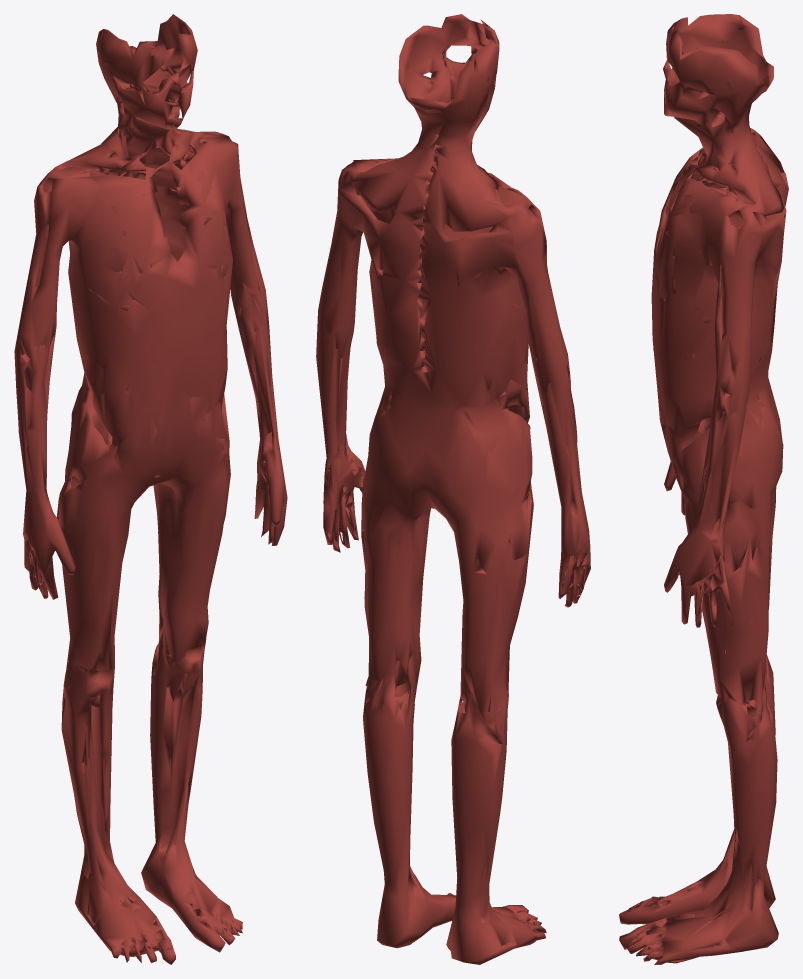
The model's file is pediatric_adolescent_female.muscular.LOD3.glb.
The picture shows the model from 3 angles, left to right: view 1: azimuth 30°, elevation 25°; view 2: azimuth 150°, elevation 25°; view 3: azimuth 270°, elevation 25°; orthographic projection.
Parts seen in each view (by area): view 1: PEDIATRIC.ADOLESCENT.FEMALE.MUSCULAR.MUSCLE; view 2: PEDIATRIC.ADOLESCENT.FEMALE.MUSCULAR.MUSCLE; view 3: PEDIATRIC.ADOLESCENT.FEMALE.MUSCULAR.MUSCLE.
Part boxes in pixels (x1,y1,x2,y2): PEDIATRIC.ADOLESCENT.FEMALE.MUSCULAR.MUSCLE: (14, 14, 287, 964); PEDIATRIC.ADOLESCENT.FEMALE.MUSCULAR.MUSCLE: (316, 14, 590, 964); PEDIATRIC.ADOLESCENT.FEMALE.MUSCULAR.MUSCLE: (619, 14, 788, 964).
Size of the model in its own units: 0.4576 by 1.58 by 0.2661.
